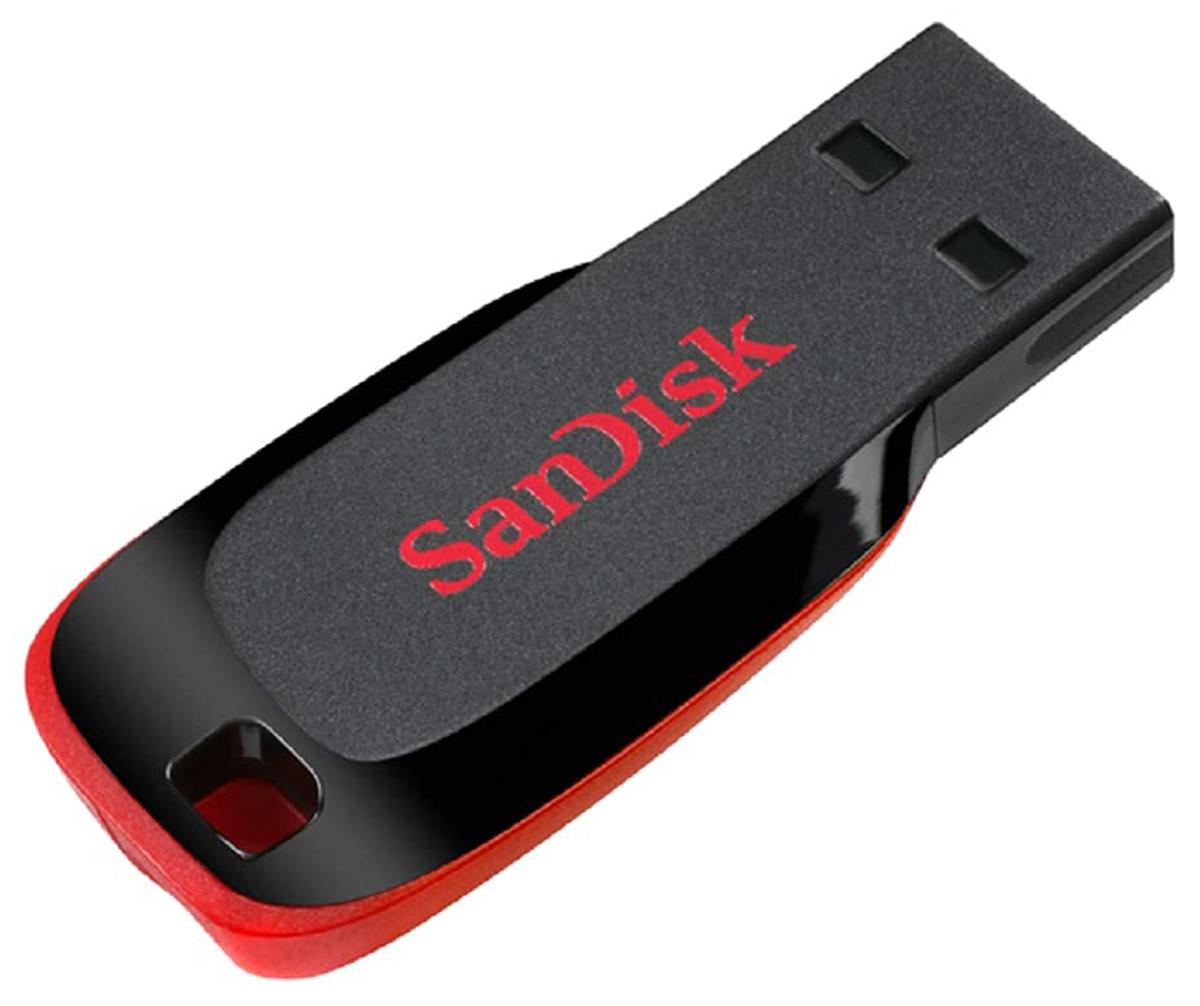USB Flash Drive: (25, 23, 1180, 984)
